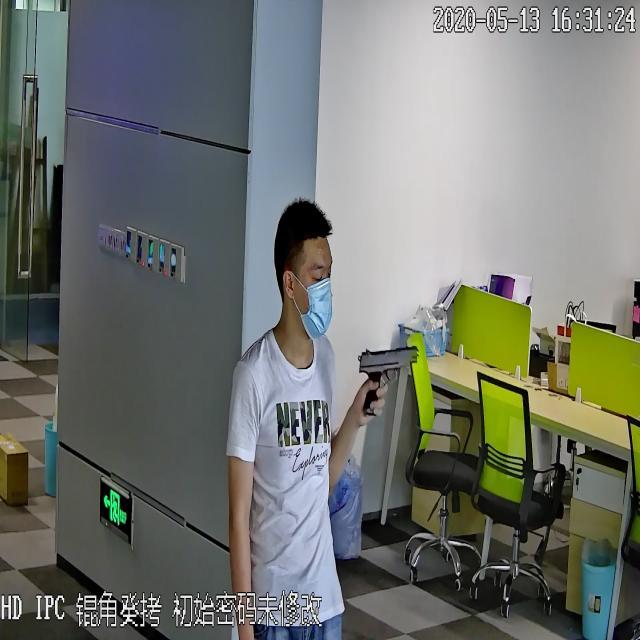gun: (357, 335, 422, 424)
